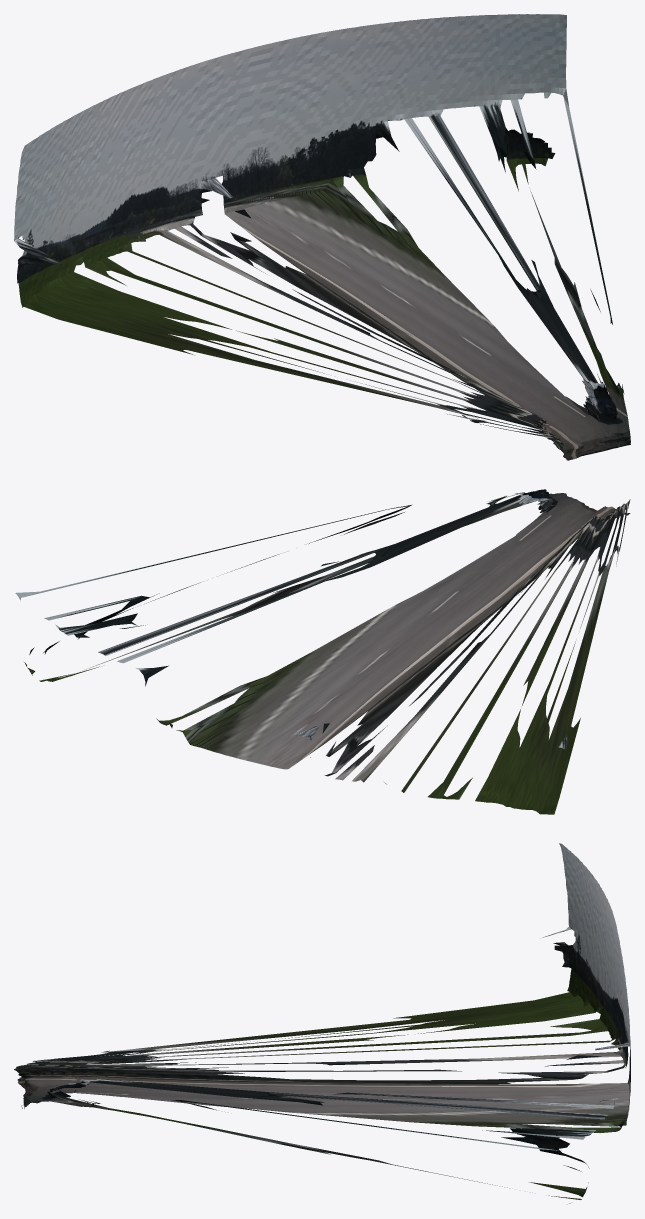
The picture shows the model from 3 angles, top to bottom: view 1: azimuth 30°, elevation 25°; view 2: azimuth 150°, elevation 25°; view 3: azimuth 270°, elevation 25°; orthographic projection. The views are drawn at different scales.
Parts seen in each view (by area): view 1: defaultobject; view 2: defaultobject; view 3: defaultobject.
Boxes of the visible parts, bbox=[...] form: defaultobject: bbox=[14, 14, 630, 460]; defaultobject: bbox=[15, 489, 630, 814]; defaultobject: bbox=[14, 843, 630, 1203].
Size of the model in its own units: 41.06 by 12.68 by 44.75.
1 material, 1 textured.
